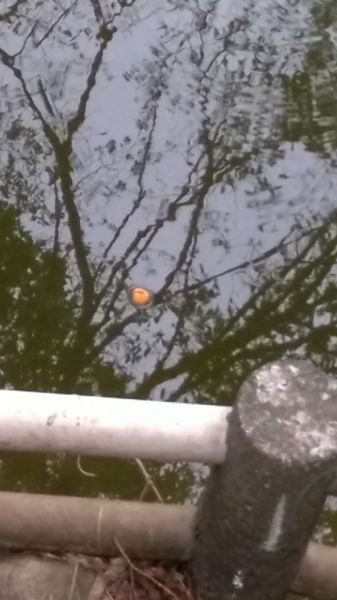eggs: (127, 283, 154, 311)
